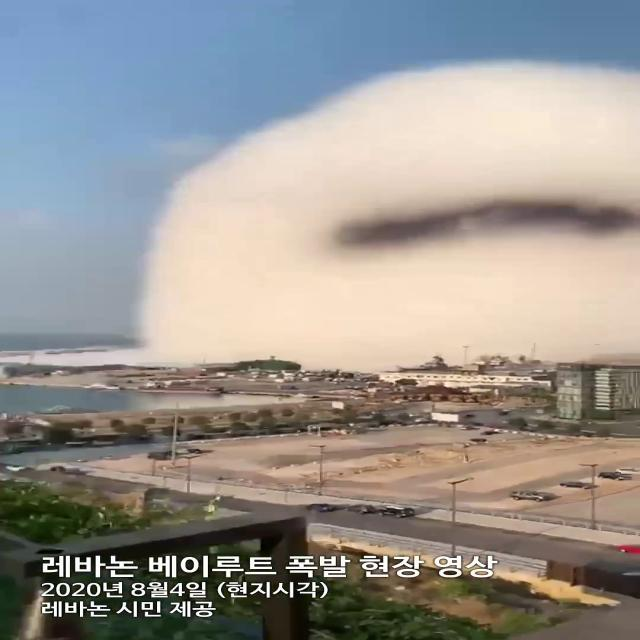explosion: (130, 68, 640, 408)
